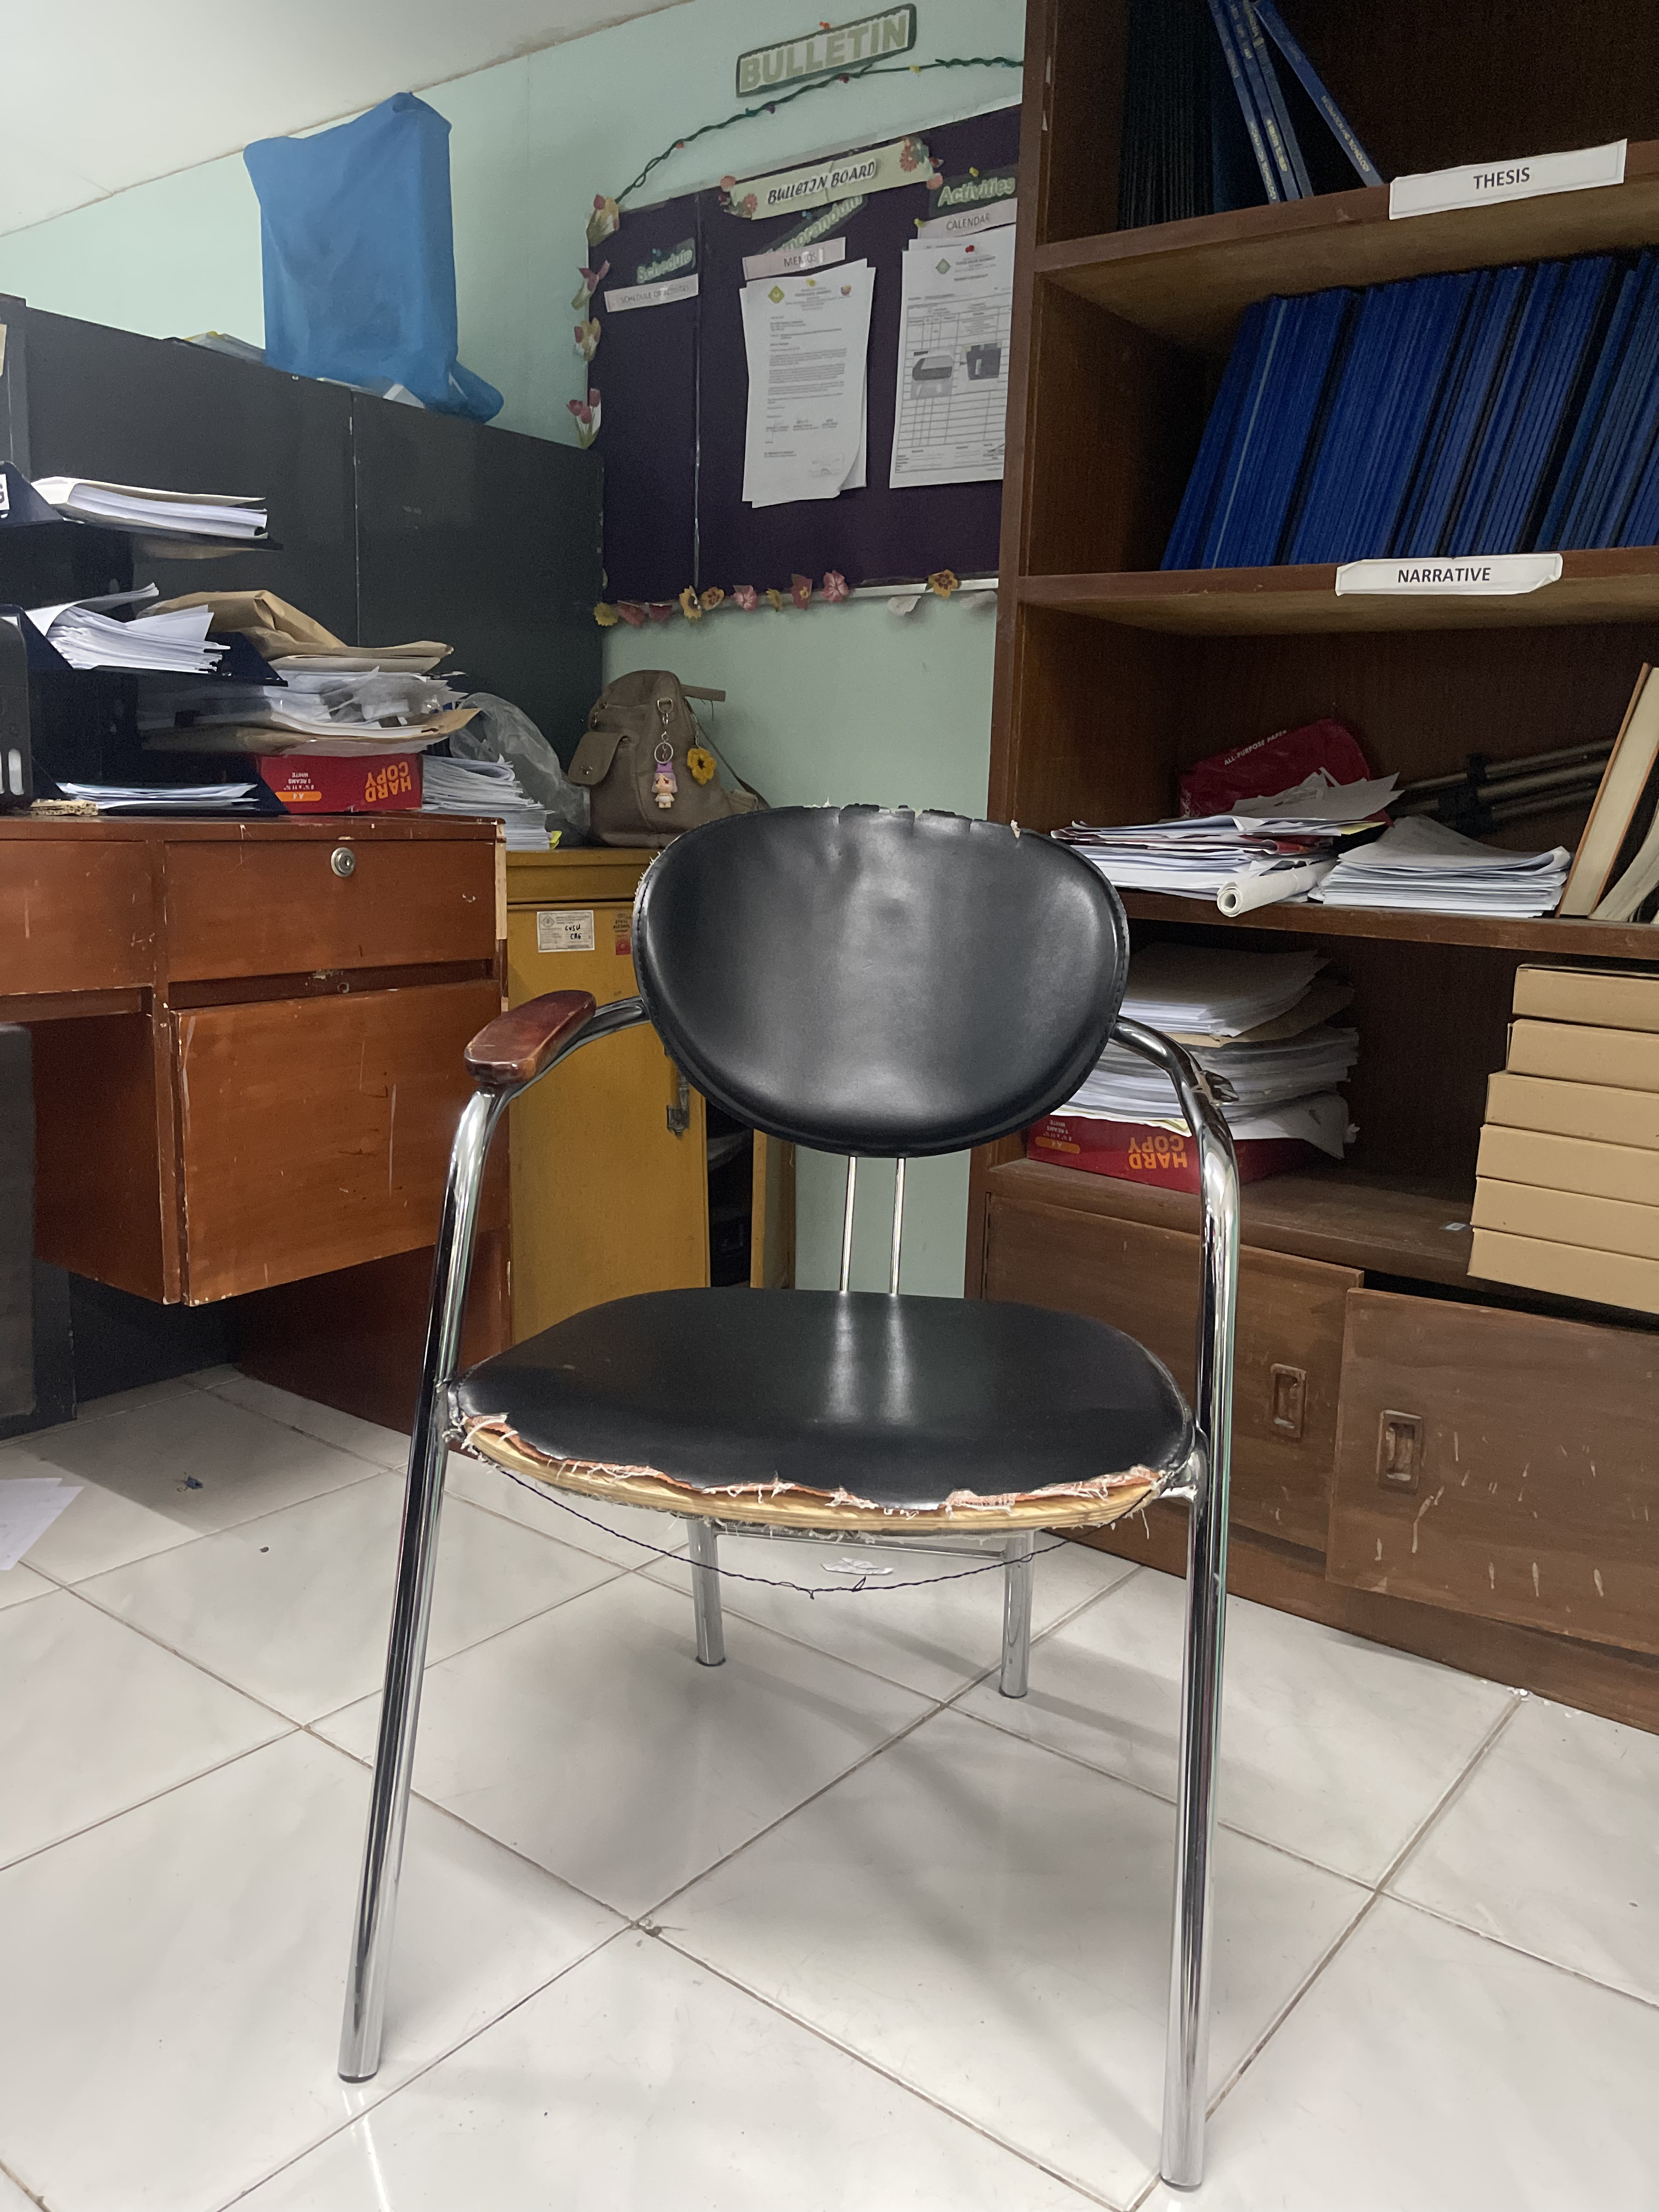chair1: (314, 801, 1246, 2212)
